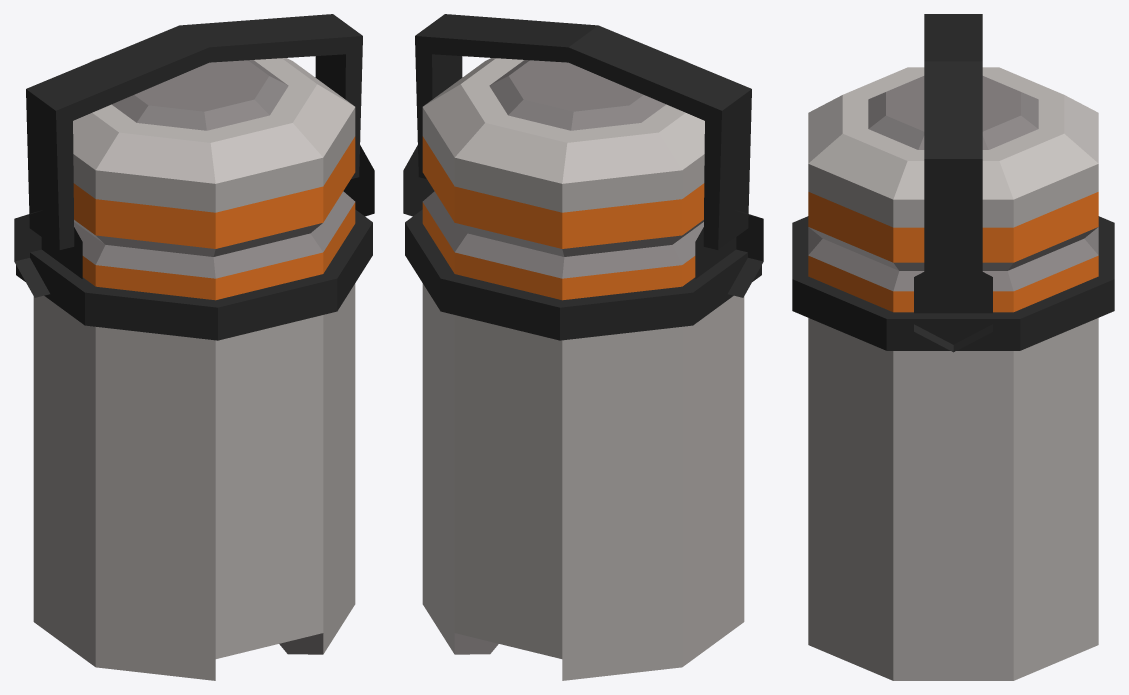
File: scifi_scifi-vial-holder.fbx
The picture shows the model from 3 angles, left to right: view 1: azimuth 30°, elevation 25°; view 2: azimuth 150°, elevation 25°; view 3: azimuth 270°, elevation 25°; orthographic projection. The views are drawn at different scales.
Parts seen in each view (by area): view 1: scifi_scifi_vial_holder; view 2: scifi_scifi_vial_holder; view 3: scifi_scifi_vial_holder.
Boxes of the visible parts, x1,y1,x2,y2 form: scifi_scifi_vial_holder: (14,14,374,680); scifi_scifi_vial_holder: (403,14,763,680); scifi_scifi_vial_holder: (792,14,1114,680).
Size of the model in its own units: 114 by 200 by 103.
